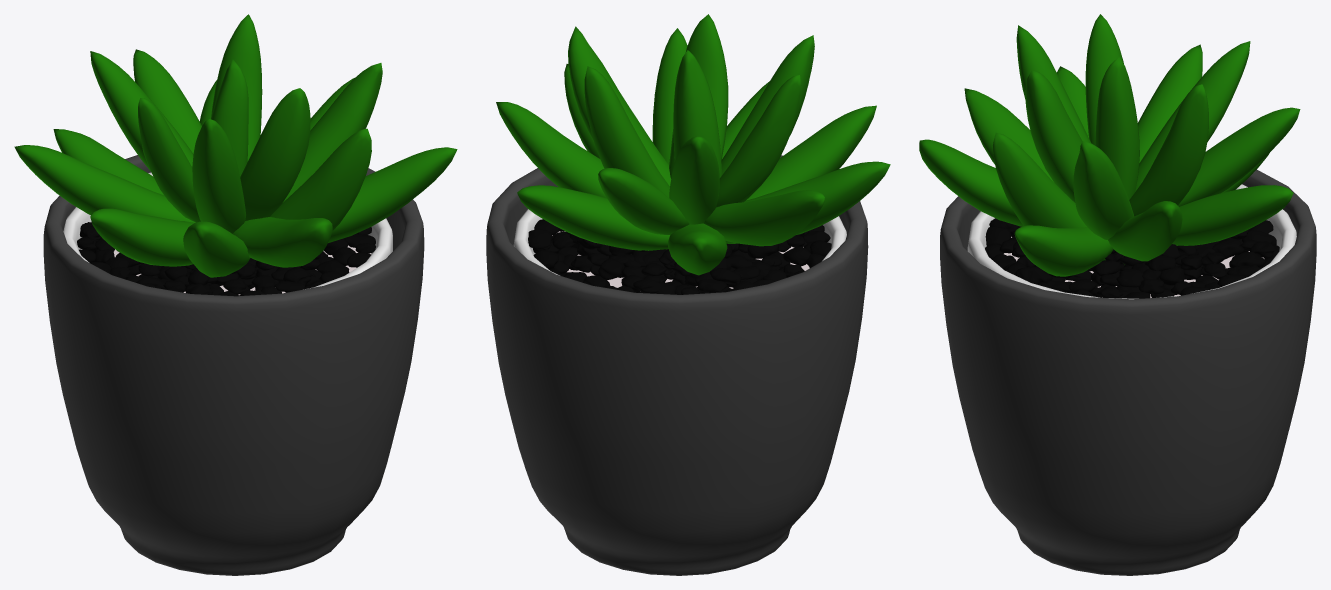
Rendered from Plant2.fbx.
3 views of the same model, side by side, from view 1: azimuth 30°, elevation 25°; view 2: azimuth 150°, elevation 25°; view 3: azimuth 270°, elevation 25° (orthographic).
Parts seen in each view (by area): view 1: G-cactus_gasteria_1; view 2: G-cactus_gasteria_1; view 3: G-cactus_gasteria_1.
Boxes of the visible parts, bbox=[...] form: G-cactus_gasteria_1: bbox=[14, 14, 457, 575]; G-cactus_gasteria_1: bbox=[486, 14, 890, 575]; G-cactus_gasteria_1: bbox=[919, 14, 1316, 575].
Bounding box in the file's own units: 11.56 × 15 × 11.47.
